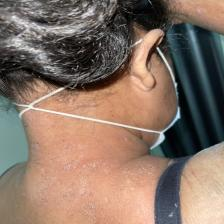DA: (27, 130, 135, 211)
